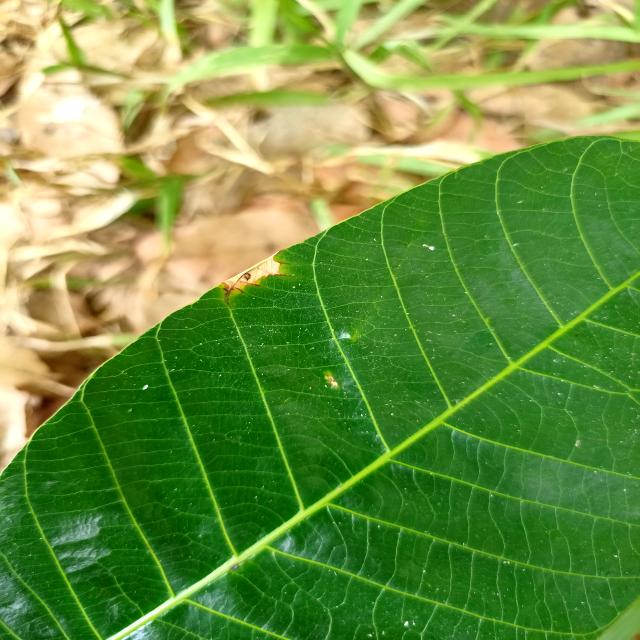Leaf-Blight: (222, 250, 280, 290)
